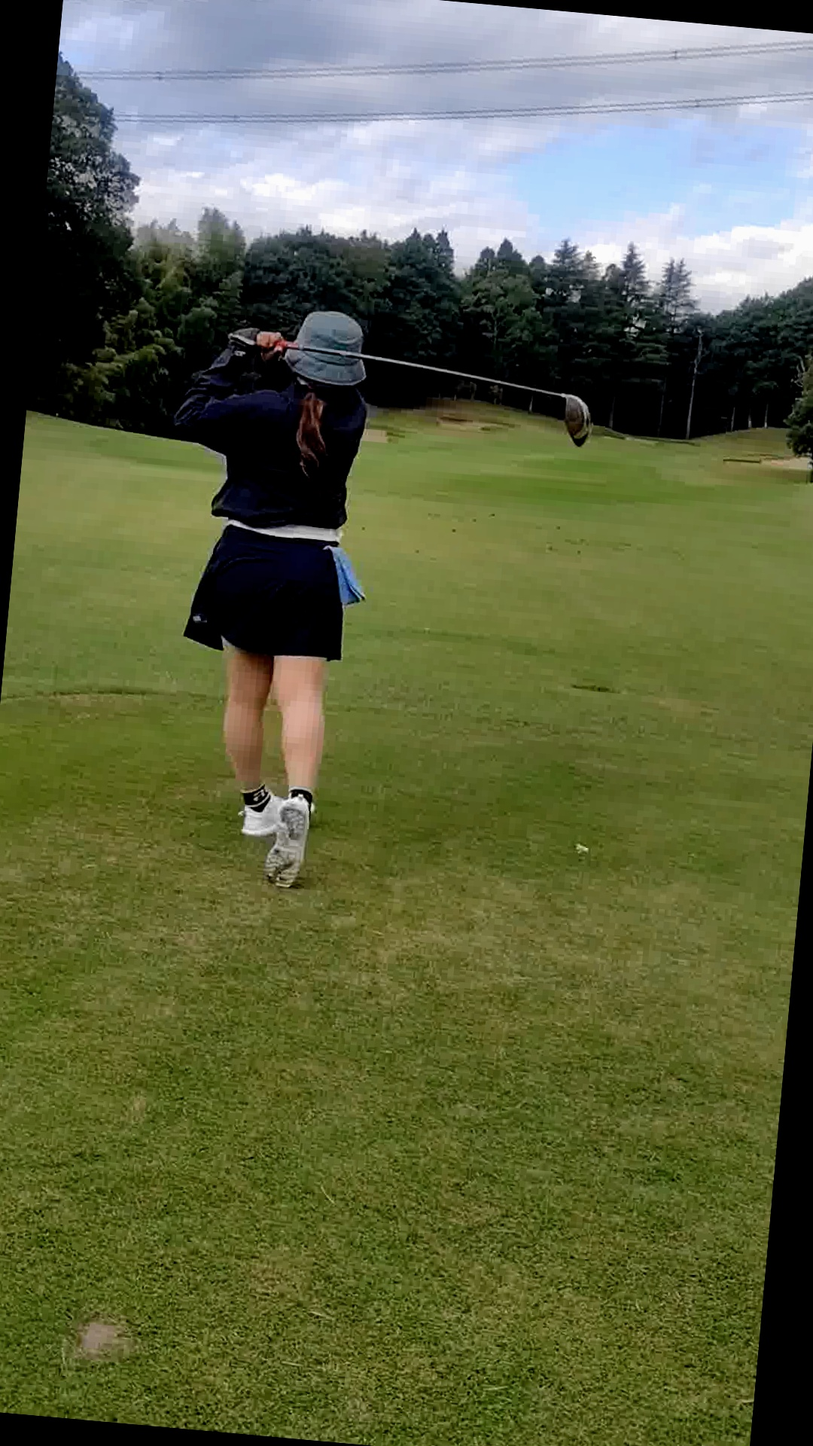clubhead: (480, 358, 694, 542)
